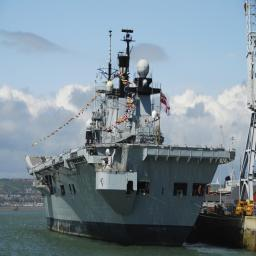Portanaves: (25, 25, 239, 250)
